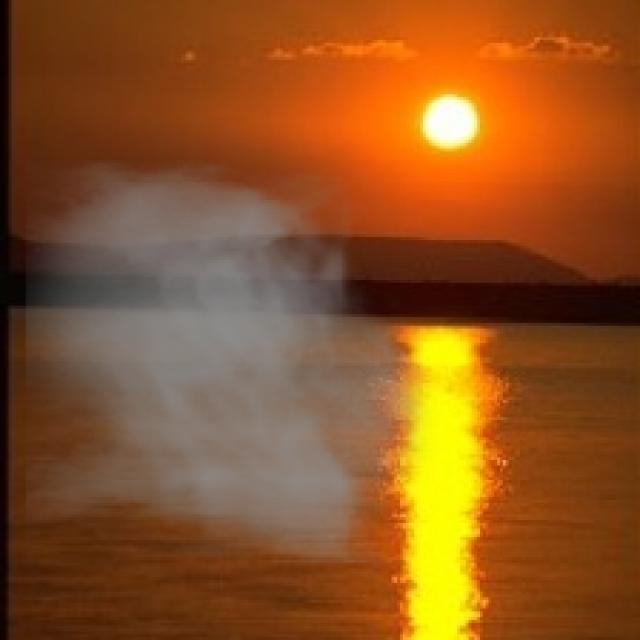Smoke: (26, 160, 443, 563)
